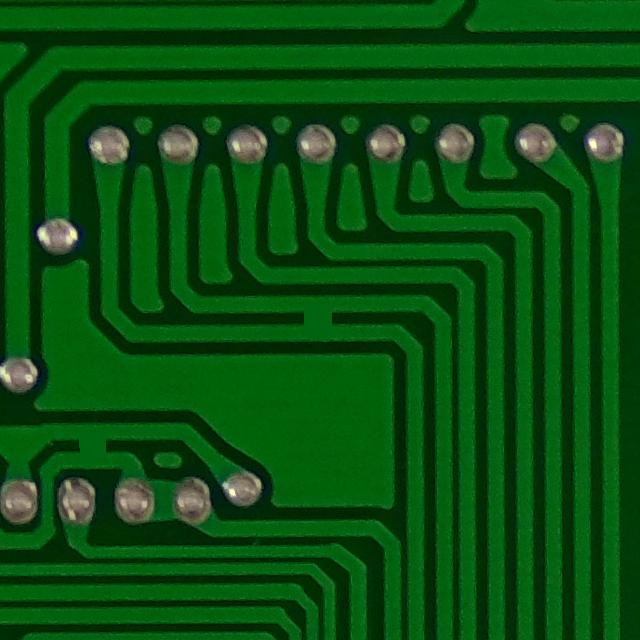short: (290, 294, 351, 347)
